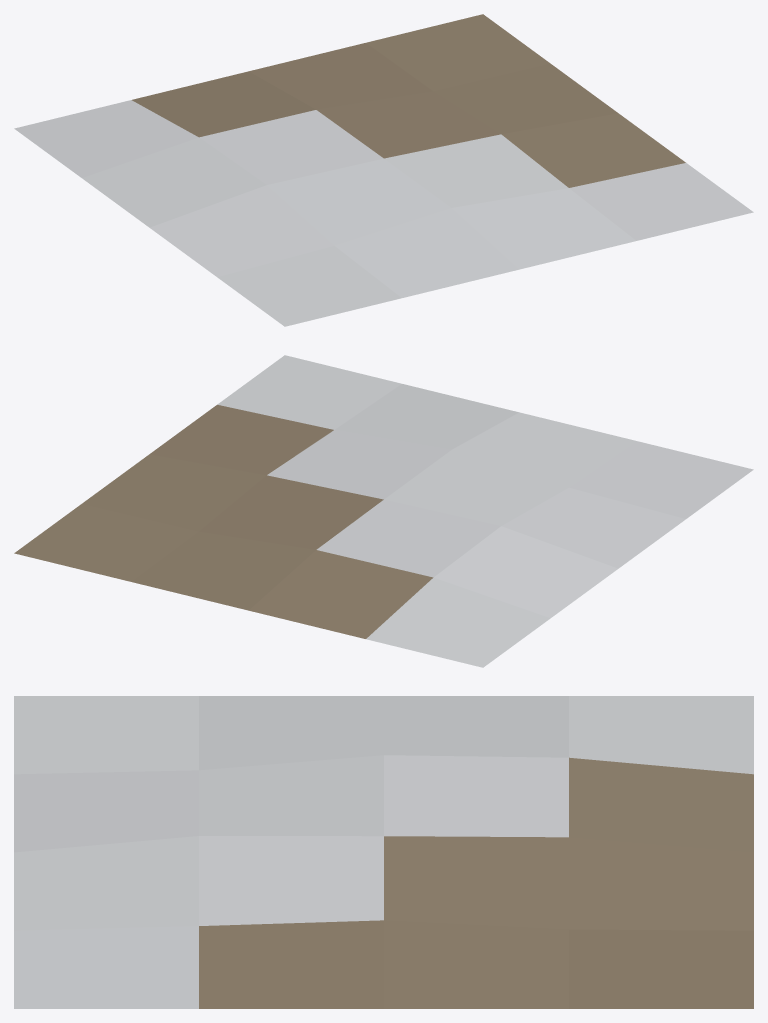
File: Tile_40_Snow_Melting.glb
3 views of the same model, one above another, from view 1: azimuth 30°, elevation 25°; view 2: azimuth 150°, elevation 25°; view 3: azimuth 270°, elevation 25° (orthographic). The views are drawn at different scales.
Visible parts, largest first — view 1: Tile_Snow_Melting; view 2: Tile_Snow_Melting; view 3: Tile_Snow_Melting.
Boxes of the visible parts, x1,y1,x2,y2 form: Tile_Snow_Melting: (14, 14, 753, 326); Tile_Snow_Melting: (14, 355, 753, 667); Tile_Snow_Melting: (14, 696, 753, 1008).
Size of the model in its own units: 0.2 by 0.0057 by 0.2.
